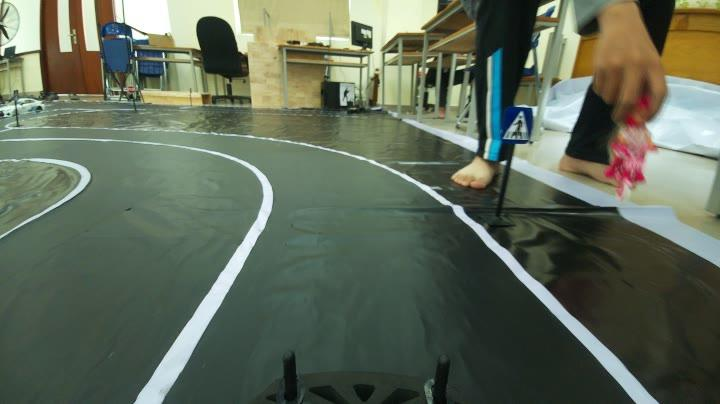crosswalk: (498, 104, 538, 144)
